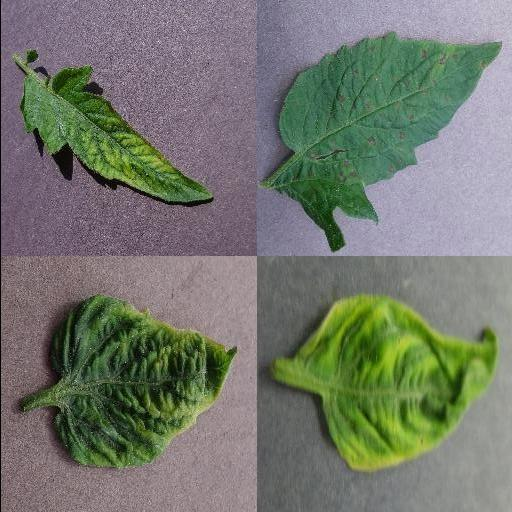Mosaic Virus: (21, 65, 215, 205)
Septoria: (278, 34, 504, 252)
Yellow Leaf Curl Virus: (293, 297, 499, 472), (46, 294, 240, 470)
